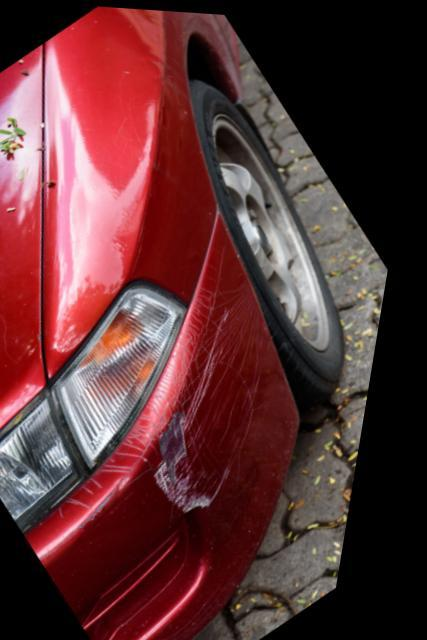scratch: (165, 301, 277, 510)
